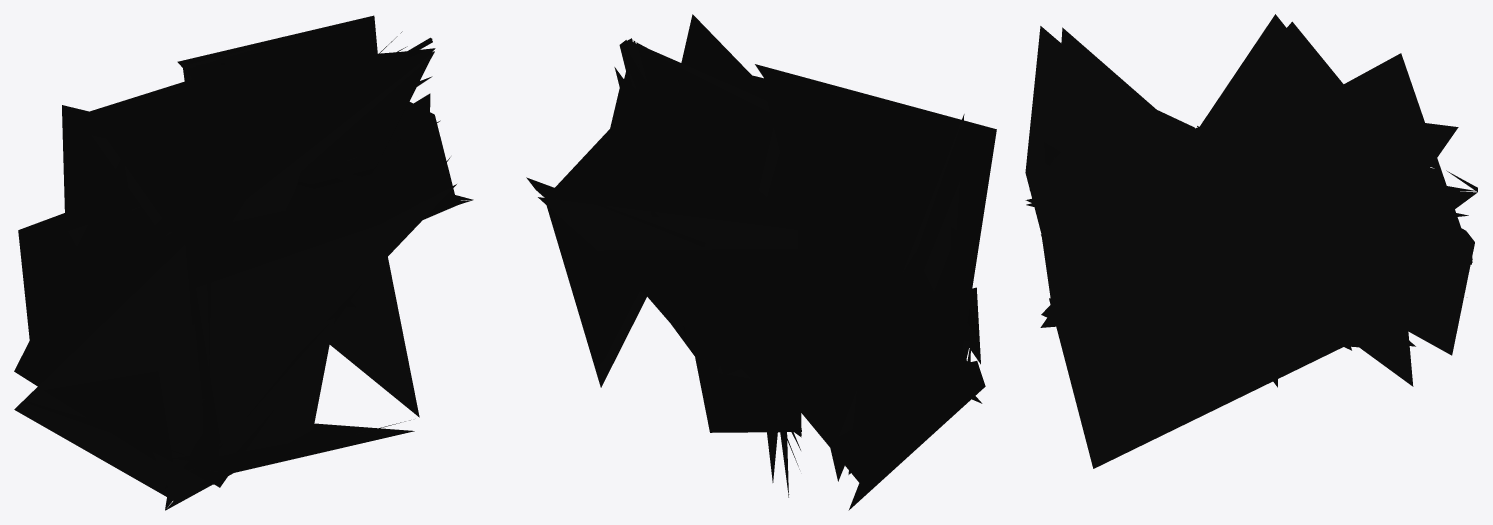
3 views of the same model, side by side, from view 1: azimuth 30°, elevation 25°; view 2: azimuth 150°, elevation 25°; view 3: azimuth 270°, elevation 25° (orthographic). The views are drawn at different scales.
Parts seen in each view (by area): view 1: ship; view 2: ship; view 3: ship.
Boxes of the visible parts, x1=… form: ship: x1=14, y1=15, x2=473, y2=510; ship: x1=526, y1=14, x2=996, y2=510; ship: x1=1025, y1=14, x2=1477, y2=468.
Bounding box in the file's own units: 0.996 × 0.9954 × 0.9871.
